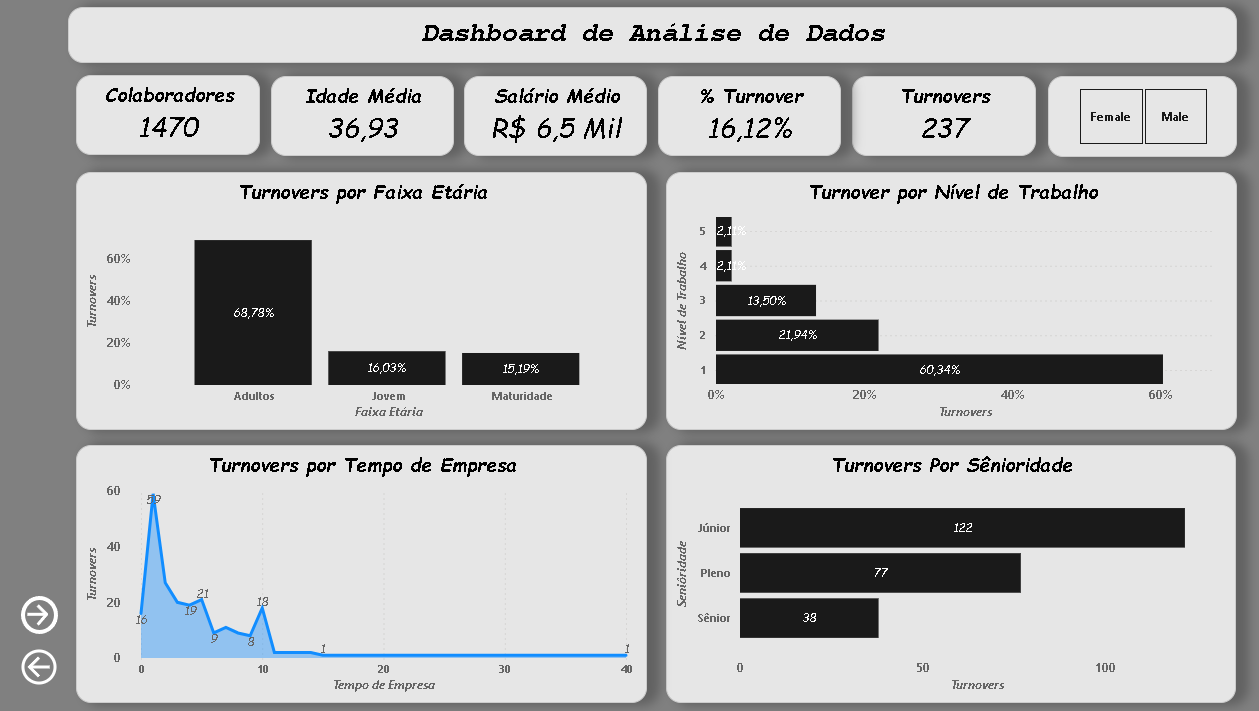

This screenshot's page, from the dashboard's own definition file:
{"tool":"powerbi","page":{"name":"Dash1","canvas":[1280,720],"ordinal":1},"visuals":[{"type":"barChart","title":"Turnovers Por Sênioridade","fields":{"Category":["dados.Sênioridade"],"Y":["dados.YesAttrition"]},"box":[671.4,448.8,570,257.9],"z":0},{"type":"shape","box":[26.2,600.1,36.6,37.8],"z":0,"group":"g1"},{"type":"textbox","box":[73.3,10.6,1168.7,56.5],"z":1000},{"type":"actionButton","box":[27.1,604.4,47.4,29.6],"z":1000,"group":"g1"},{"type":"card","title":"Colaboradores","fields":{"Values":["Sum(dados.EmployeeCount)"]},"box":[81.3,79,183.7,80],"z":2000},{"type":"card","title":"Turnovers","fields":{"Values":["dados.YesAttrition"]},"box":[856.9,79.5,183.7,80],"z":3000},{"type":"card","title":"Idade Média","fields":{"Values":["Avg(dados.Idade Média)"]},"box":[276.2,79.8,183,80.7],"z":4000},{"type":"card","title":"Salário Médio","fields":{"Values":["Avg(dados.MonthlyIncome)"]},"box":[468.8,79.8,182.9,80.7],"z":5000},{"type":"card","title":"% Turnover","fields":{"Values":["dados.taxa turnover"]},"box":[662.5,79.5,183.7,80],"z":6000},{"type":"lineChart","title":"Turnovers por Tempo de Empresa","fields":{"Y":["dados.YesAttrition"],"Category":["dados.YearsAtCompany"]},"box":[81.3,448.8,570.7,257.9],"z":7000},{"type":"columnChart","title":"Turnovers por Faixa Etária","fields":{"Category":["dados.Faixa Etária"],"Y":["dados.YesAttrition"]},"box":[81.3,175.8,570.7,257.9],"z":8000},{"type":"clusteredBarChart","title":"Turnover por Nível de Trabalho","fields":{"Category":["dados.JobLevel"],"Y":["dados.YesAttrition"]},"box":[671.4,175.8,570.7,257.9],"z":9000},{"type":"slicer","fields":{"Values":["dados.Gender"]},"box":[1053,79.5,189,81.3],"z":10000},{"type":"actionButton","box":[21.1,634.8,45.7,72],"z":11000},{"type":"group","id":"g1","title":"Grupo 1","box":[26.2,600.1,48.3,37.8],"z":12000}]}

Visuals, with their boxes in screenshot pixels (x1, y1, x2, y2), scaled from the page's 1280x720 canvas onto the 1259x711 screenshot:
"Turnovers Por Sênioridade" barChart: {"left": 660, "top": 443, "right": 1221, "bottom": 698}
shape: {"left": 26, "top": 593, "right": 62, "bottom": 630}
textbox: {"left": 72, "top": 10, "right": 1222, "bottom": 66}
actionButton: {"left": 27, "top": 597, "right": 73, "bottom": 626}
"Colaboradores" card: {"left": 80, "top": 78, "right": 261, "bottom": 157}
"Turnovers" card: {"left": 843, "top": 79, "right": 1024, "bottom": 158}
"Idade Média" card: {"left": 272, "top": 79, "right": 452, "bottom": 158}
"Salário Médio" card: {"left": 461, "top": 79, "right": 641, "bottom": 158}
"% Turnover" card: {"left": 652, "top": 79, "right": 832, "bottom": 158}
"Turnovers por Tempo de Empresa" lineChart: {"left": 80, "top": 443, "right": 641, "bottom": 698}
"Turnovers por Faixa Etária" columnChart: {"left": 80, "top": 174, "right": 641, "bottom": 428}
"Turnover por Nível de Trabalho" clusteredBarChart: {"left": 660, "top": 174, "right": 1222, "bottom": 428}
slicer - dados.Gender: {"left": 1036, "top": 79, "right": 1222, "bottom": 159}
actionButton: {"left": 21, "top": 627, "right": 66, "bottom": 698}
"Grupo 1" group: {"left": 26, "top": 593, "right": 73, "bottom": 630}
